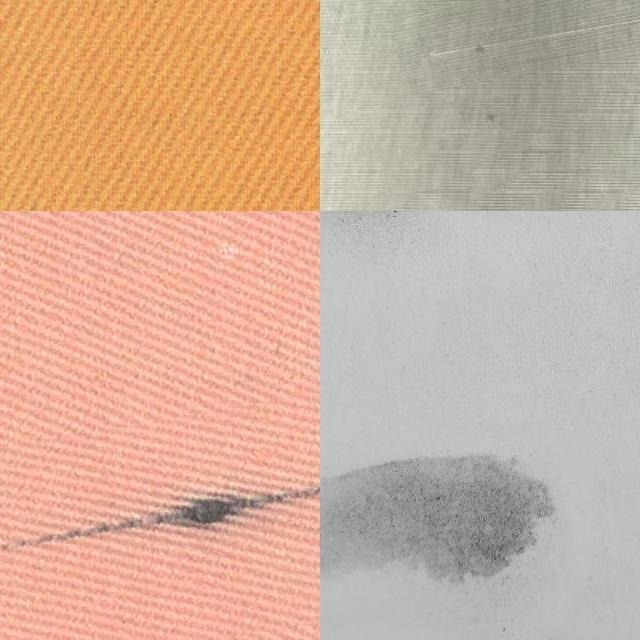Thread_other: (320, 427, 570, 626)
stains: (0, 392, 320, 640), (392, 0, 640, 80)
